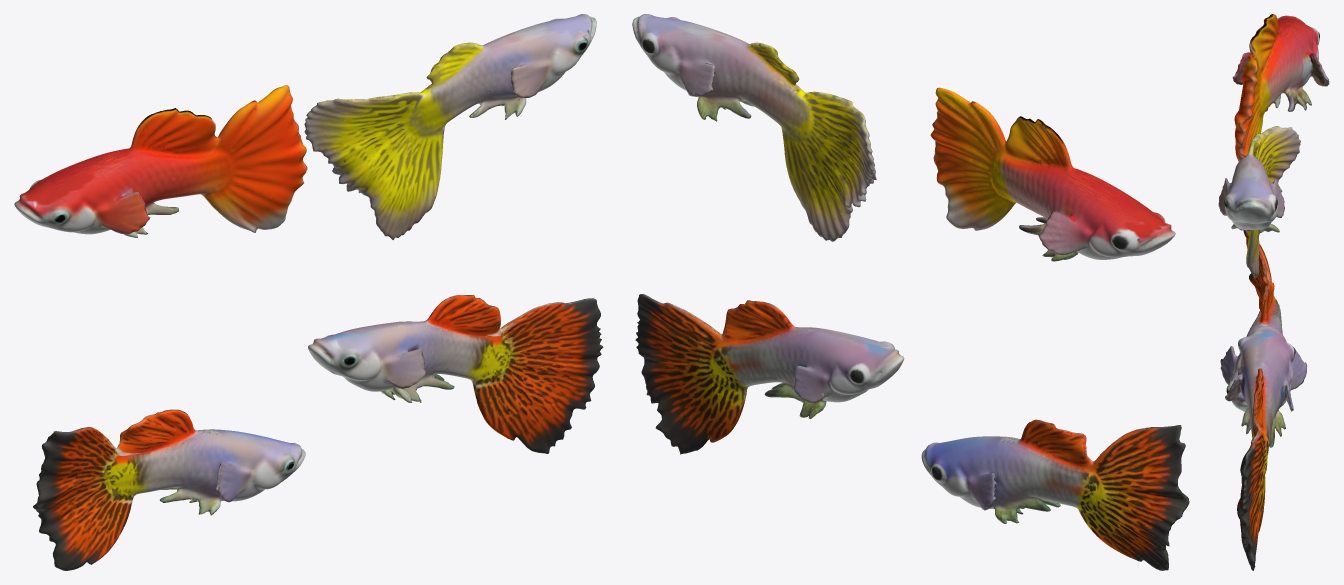
File: guppy_galore_group_mesh.glb
3 renders of one model, left to right at view 1: azimuth 30°, elevation 25°; view 2: azimuth 150°, elevation 25°; view 3: azimuth 270°, elevation 25°, orthographic. The views are drawn at different scales.
Parts seen in each view (by area): view 1: Mesh_0; view 2: Mesh_0; view 3: Mesh_0.
Boxes of the visible parts, x1,y1,x2,y2 form: Mesh_0: (14,14,603,570); Mesh_0: (632,14,1189,570); Mesh_0: (1218,14,1329,570).
Bounding box in the file's own units: 2 × 1.47 × 0.3762.
Materials: 1 (1 with a texture image).
